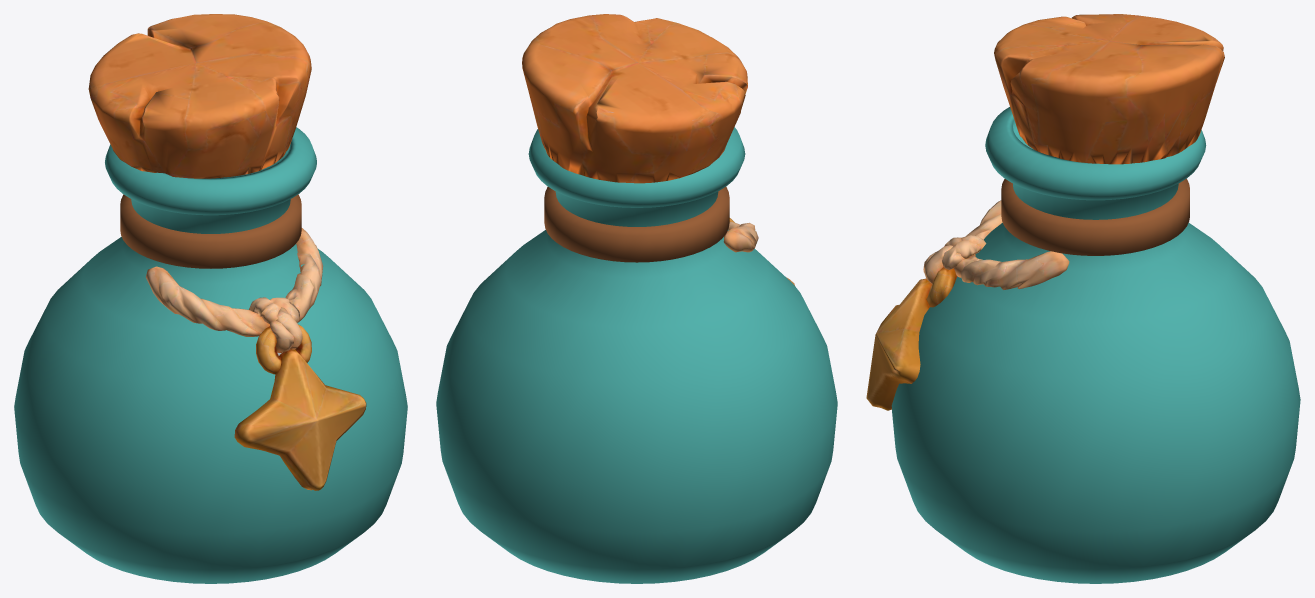
Rendered from apothecary-2.web.glb.
3 views of the same model, side by side, from view 1: azimuth 30°, elevation 25°; view 2: azimuth 150°, elevation 25°; view 3: azimuth 270°, elevation 25° (orthographic). The views are drawn at different scales.
Visible parts, largest first — view 1: apothecary-2; view 2: apothecary-2; view 3: apothecary-2.
Part boxes in pixels (bbox=[...]): apothecary-2: bbox=[14, 14, 407, 583]; apothecary-2: bbox=[436, 14, 837, 583]; apothecary-2: bbox=[866, 14, 1300, 583].
Bounding box in the file's own units: 0.1207 × 0.16 × 0.1279.
Materials: 6 (1 with a texture image).
